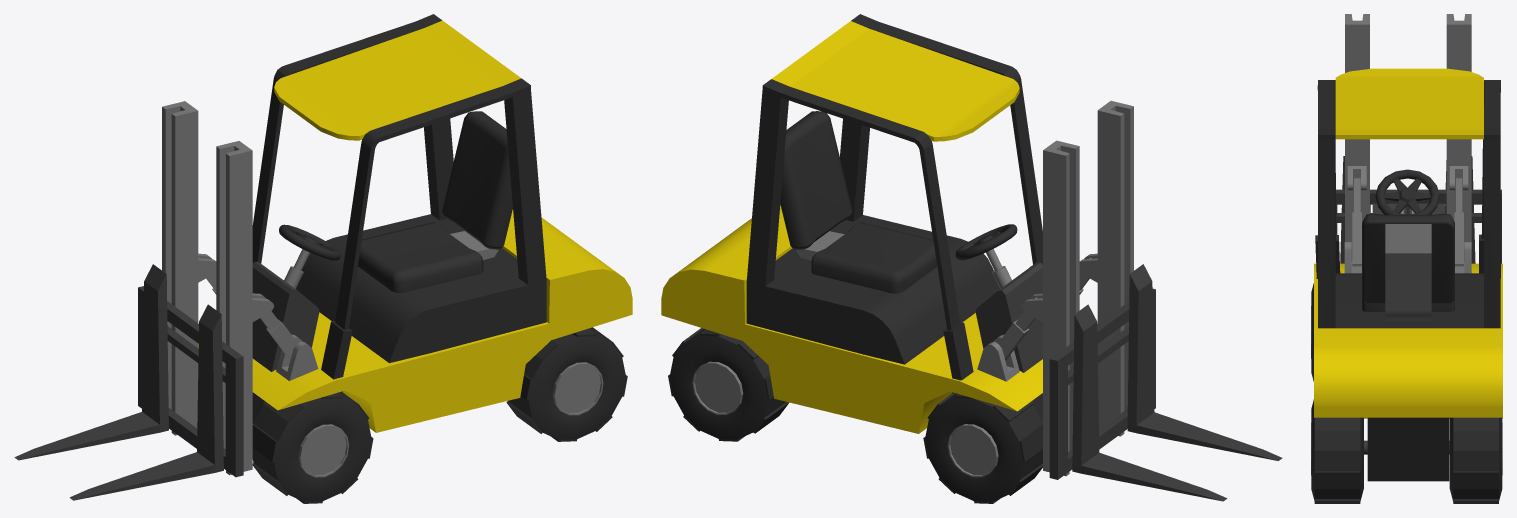
Rendered from SM_GaffelTruck.fbx.
3 views of the same model, side by side, from view 1: azimuth 30°, elevation 25°; view 2: azimuth 150°, elevation 25°; view 3: azimuth 270°, elevation 25° (orthographic). The views are drawn at different scales.
Parts seen in each view (by area): view 1: pCube39; view 2: pCube39; view 3: pCube39.
Boxes of the visible parts, x1,y1,x2,y2 form: pCube39: (14,14,632,503); pCube39: (661,14,1282,503); pCube39: (1311,14,1502,503).
Bounding box in the file's own units: 29.2 × 18.92 × 9.58.
